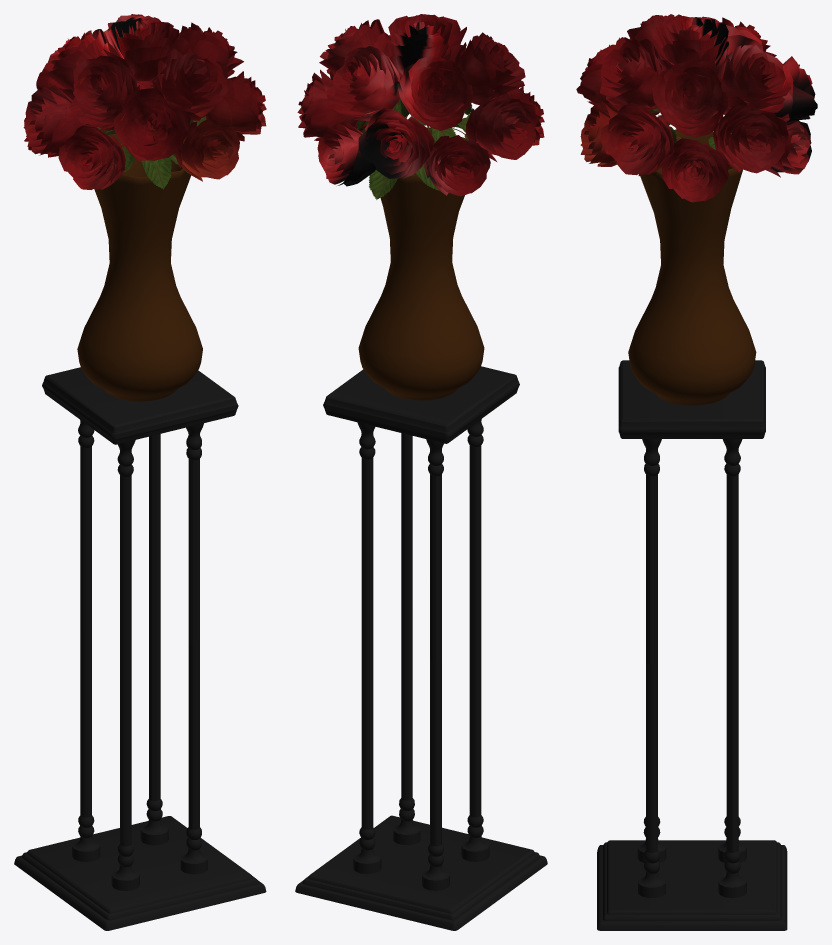
File: Vase-living.FBX
3 views of the same model, side by side, from view 1: azimuth 30°, elevation 25°; view 2: azimuth 150°, elevation 25°; view 3: azimuth 270°, elevation 25° (orthographic).
Parts seen in each view (by area): view 1: putong014, putong005, putong017, putong006; view 2: putong014, putong005, putong017, putong006; view 3: putong014, putong005, putong017.
Boxes of the visible parts, x1,y1,x2,y2 form: putong014: [14, 367, 266, 930]; putong005: [23, 14, 266, 189]; putong017: [77, 133, 202, 401]; putong006: [96, 87, 206, 189]; putong014: [295, 366, 547, 930]; putong005: [297, 14, 544, 196]; putong017: [358, 129, 484, 400]; putong006: [357, 98, 471, 199]; putong014: [597, 360, 787, 930]; putong005: [576, 14, 817, 202]; putong017: [628, 129, 756, 405].
Size of the model in its own units: 40.59 by 159 by 39.88.
